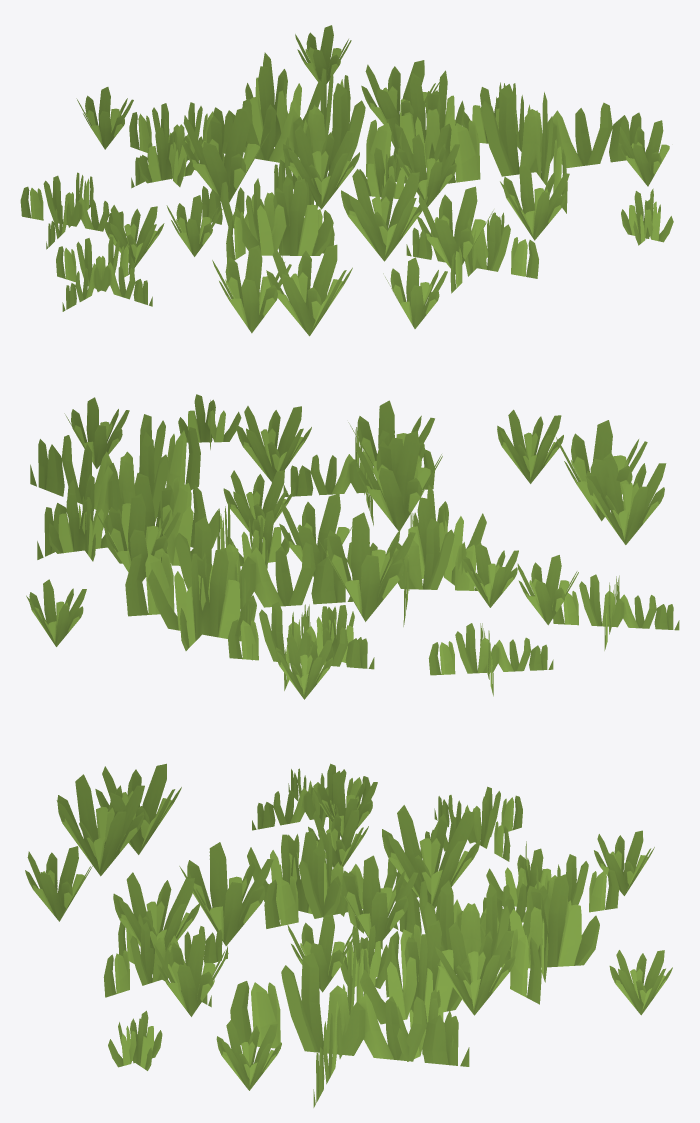
File: SM_Env_Creeper_Clump_01.fbx
The picture shows the model from 3 angles, top to bottom: view 1: azimuth 30°, elevation 25°; view 2: azimuth 150°, elevation 25°; view 3: azimuth 270°, elevation 25°; orthographic projection. The views are drawn at different scales.
Visible parts, largest first — view 1: SM_Env_Creeper_Clump_01; view 2: SM_Env_Creeper_Clump_01; view 3: SM_Env_Creeper_Clump_01.
Boxes of the visible parts, x1,y1,x2,y2 form: SM_Env_Creeper_Clump_01: (20, 25, 673, 336); SM_Env_Creeper_Clump_01: (26, 394, 679, 699); SM_Env_Creeper_Clump_01: (25, 763, 672, 1107).
Bounding box in the file's own units: 133 × 22.86 × 118.
